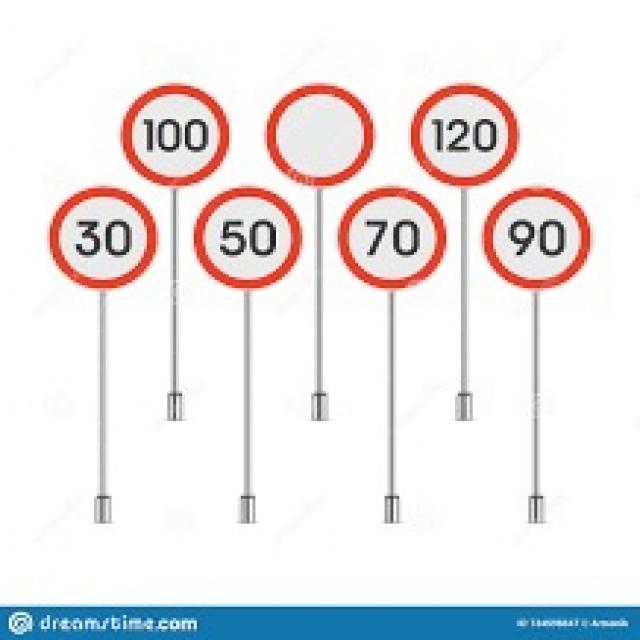speed_limit_100: (106, 77, 239, 191)
speed_limit_120: (406, 80, 530, 184)
speed_limit_30: (48, 179, 158, 292)
speed_limit_50: (190, 176, 304, 291)
speed_limit_70: (335, 183, 447, 304)
